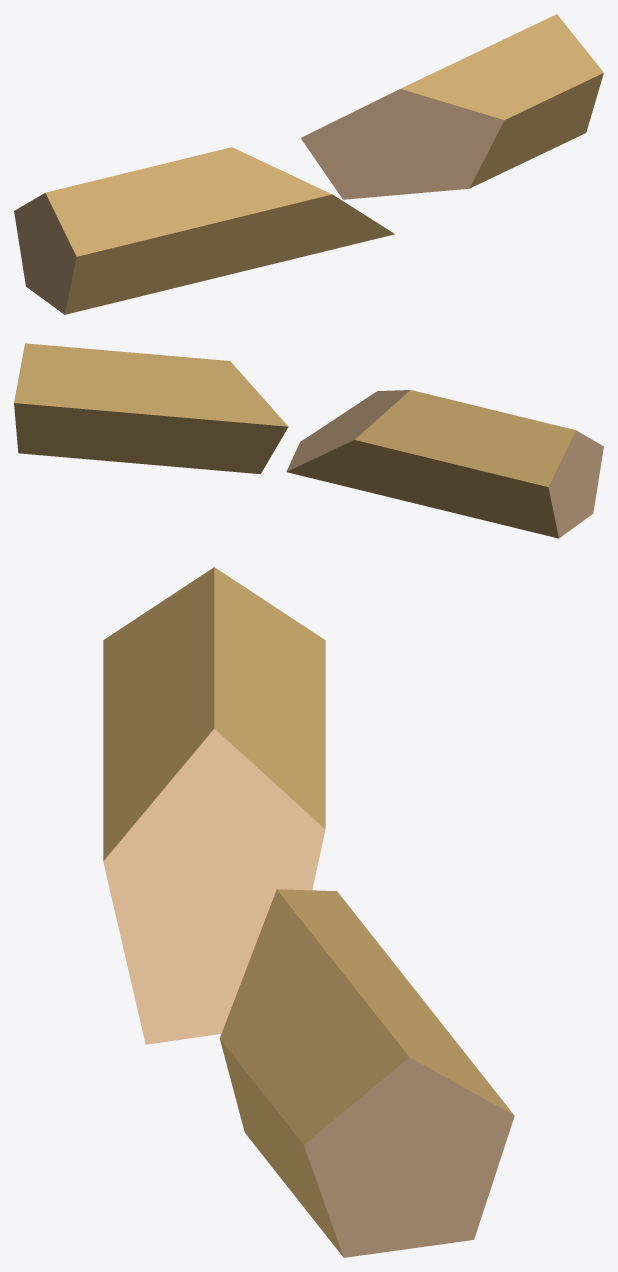
The model's file is Simple_Firewood_04.fbx.
The picture shows the model from 3 angles, top to bottom: view 1: azimuth 30°, elevation 25°; view 2: azimuth 150°, elevation 25°; view 3: azimuth 270°, elevation 25°; orthographic projection. The views are drawn at different scales.
Visible parts, largest first — view 1: Simple_Firewood_04; view 2: Simple_Firewood_04; view 3: Simple_Firewood_04.
Part boxes in pixels (x1,y1,x2,y2): Simple_Firewood_04: (14,14,603,314); Simple_Firewood_04: (14,343,603,538); Simple_Firewood_04: (103,567,514,1257).
Size of the model in its own units: 71.01 by 12.57 by 24.44.
